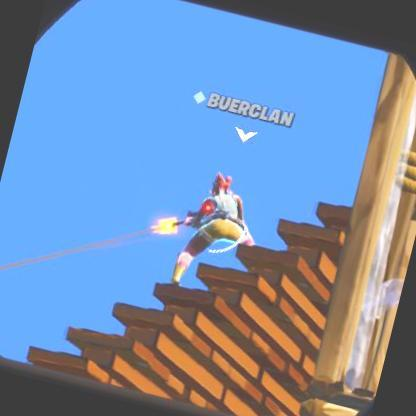person: (182, 174, 252, 276)
